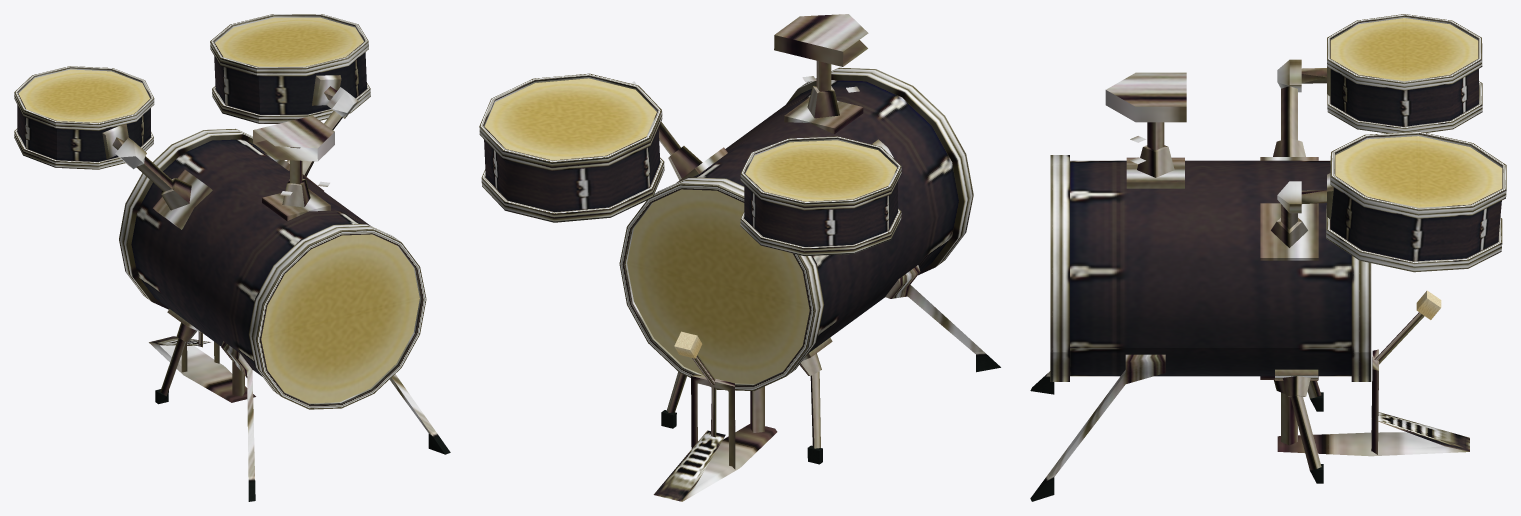
Rendered from drumkit.FBX.
3 views of the same model, side by side, from view 1: azimuth 30°, elevation 25°; view 2: azimuth 150°, elevation 25°; view 3: azimuth 270°, elevation 25° (orthographic). The views are drawn at different scales.
Parts seen in each view (by area): view 1: cw_g-drum; view 2: cw_g-drum; view 3: cw_g-drum.
Boxes of the visible parts, left/top/right/bottom form: cw_g-drum: left=14, top=14, right=450, bottom=501; cw_g-drum: left=479, top=14, right=1000, bottom=501; cw_g-drum: left=1030, top=14, right=1506, bottom=501.
Size of the model in its own units: 1.21 by 1.04 by 1.27.
3 materials, 3 textured.
